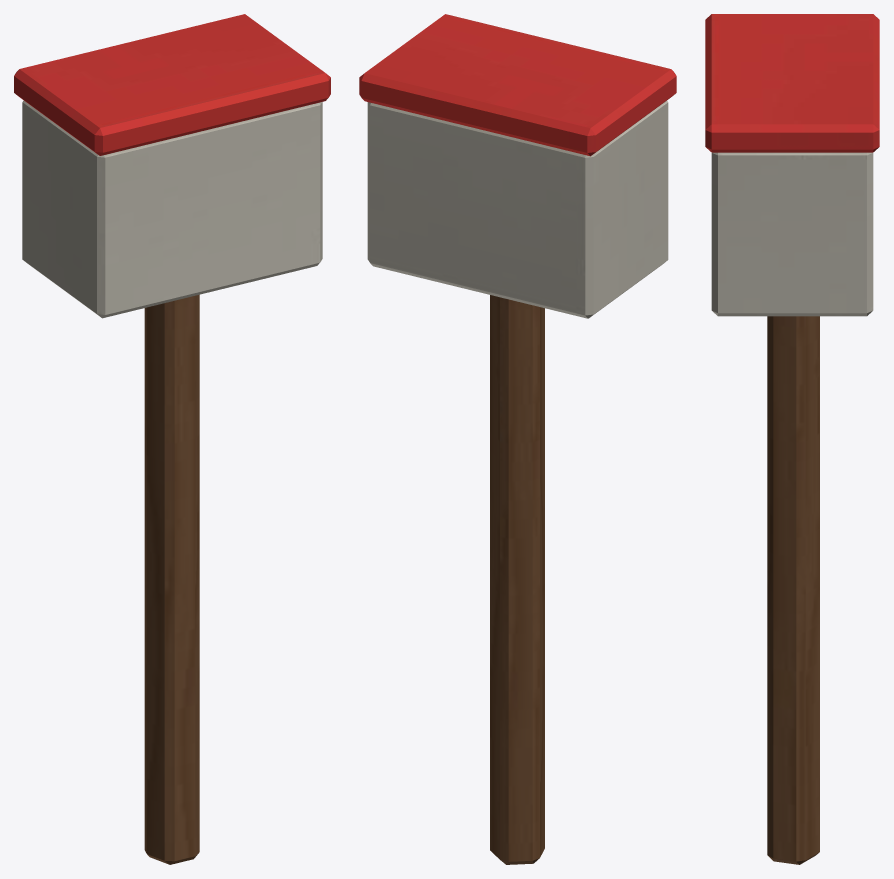
Rendered from brevlada_tex.glb.
The picture shows the model from 3 angles, left to right: view 1: azimuth 30°, elevation 25°; view 2: azimuth 150°, elevation 25°; view 3: azimuth 270°, elevation 25°; orthographic projection.
Parts seen in each view (by area): view 1: brevlada; view 2: brevlada; view 3: brevlada.
Boxes of the visible parts, box(x1,y1,x2,y2) form: brevlada: box(14, 14, 330, 864); brevlada: box(359, 14, 676, 864); brevlada: box(705, 14, 879, 864).
Bounding box in the file's own units: 0.44 × 1.39 × 0.28.
Materials: 3 (3 with a texture image).
